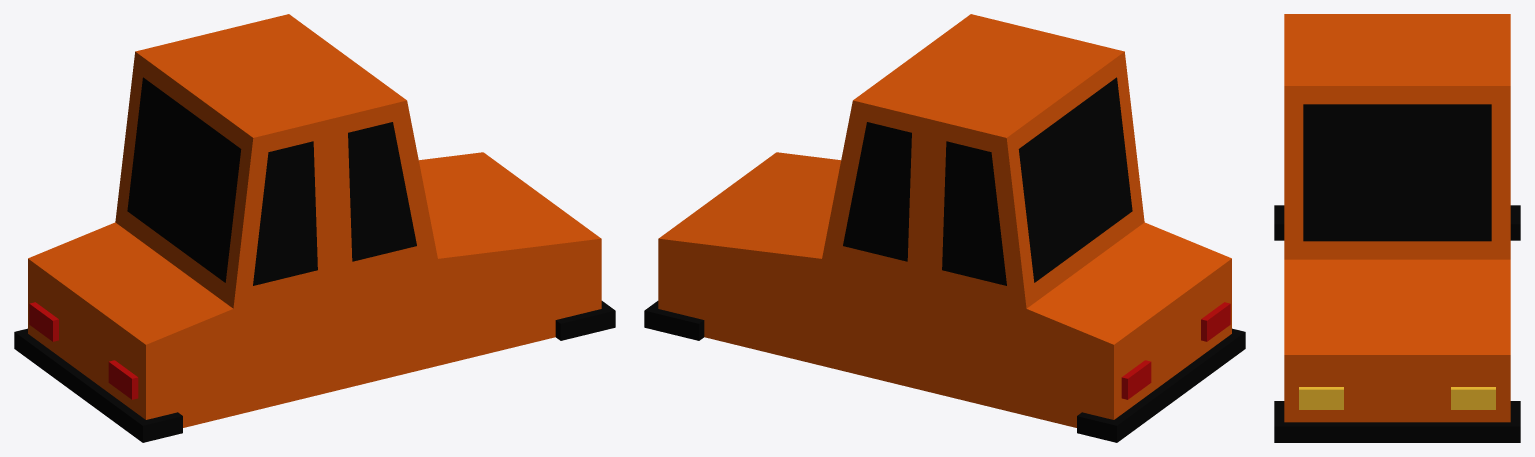
The model's file is CityCar_Sedan_02.fbx.
The picture shows the model from 3 angles, left to right: view 1: azimuth 30°, elevation 25°; view 2: azimuth 150°, elevation 25°; view 3: azimuth 270°, elevation 25°; orthographic projection. The views are drawn at different scales.
Visible parts, largest first — view 1: CityCar_Sedan_02; view 2: CityCar_Sedan_02; view 3: CityCar_Sedan_02.
Part boxes in pixels (x1,y1,x2,y2): CityCar_Sedan_02: (14, 14, 615, 442); CityCar_Sedan_02: (644, 14, 1245, 442); CityCar_Sedan_02: (1274, 14, 1520, 442).
Bounding box in the file's own units: 0.4902 × 0.2706 × 0.2307.
